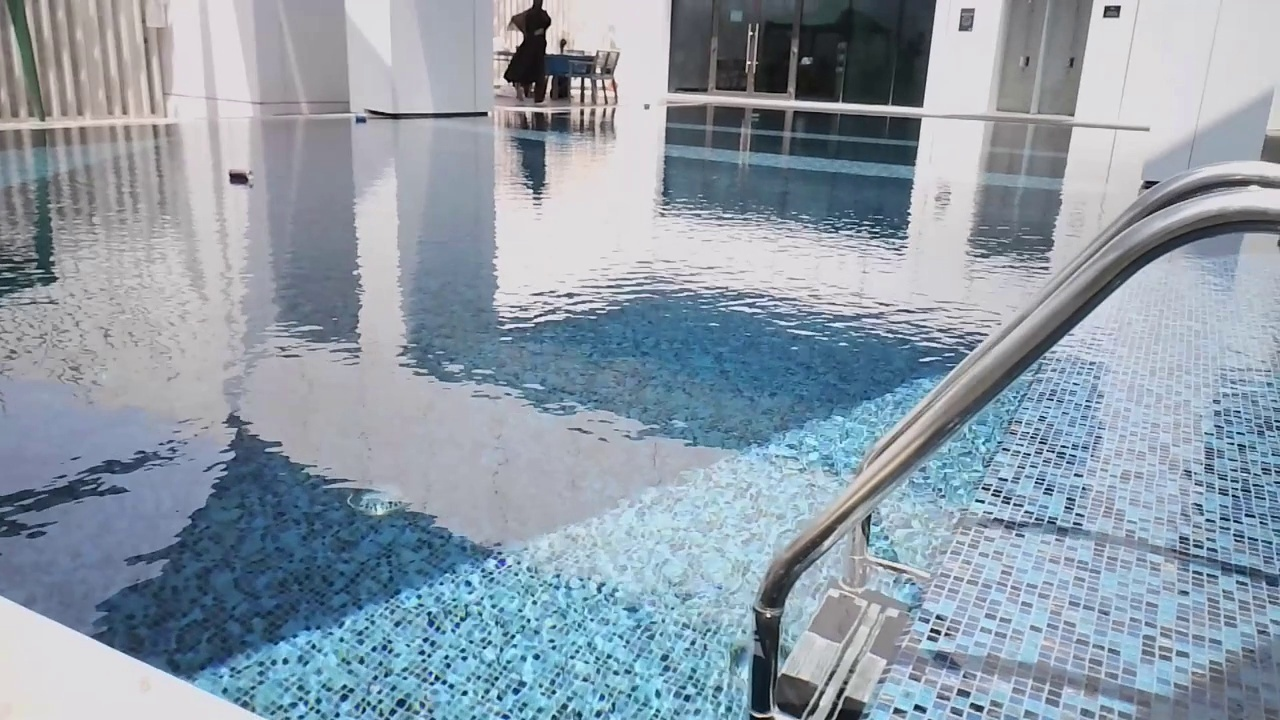debris: (225, 164, 258, 189), (352, 110, 372, 126), (744, 107, 762, 123), (640, 101, 651, 111)
